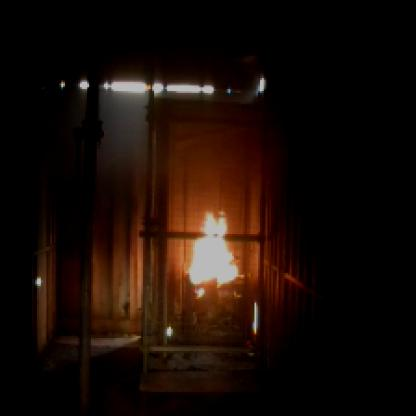Fire: (178, 208, 236, 297)
